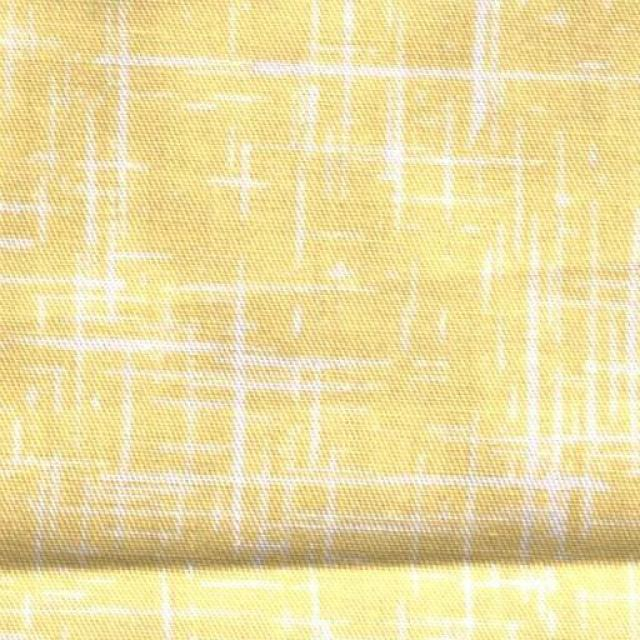broken_yarn: (0, 516, 634, 584)
